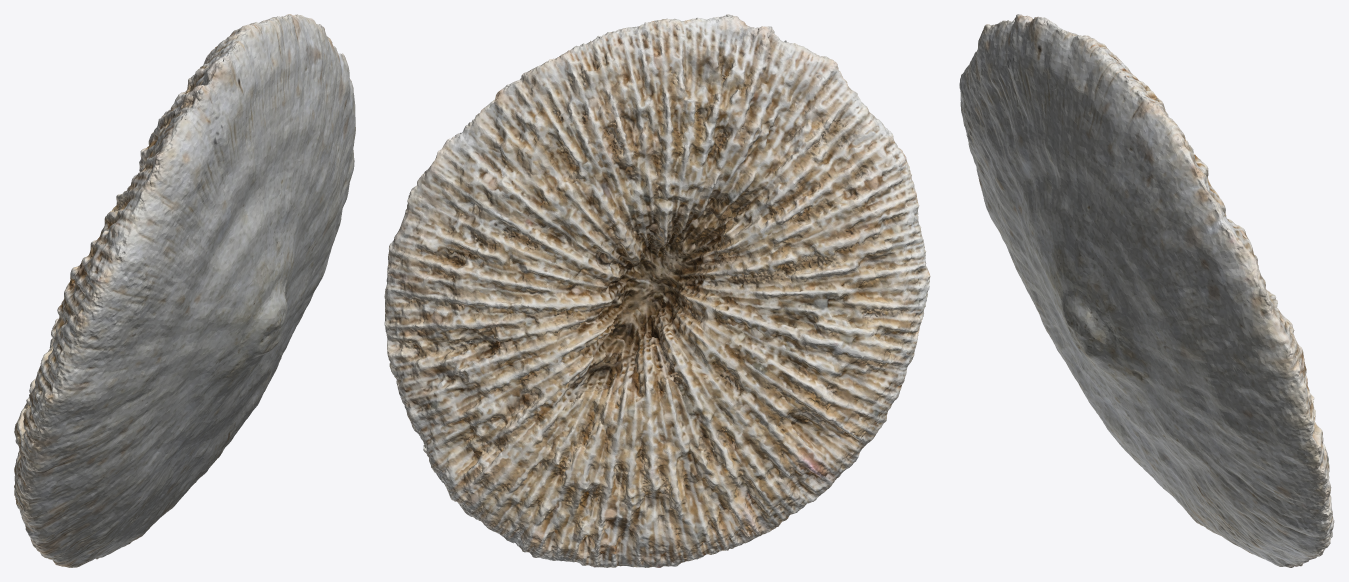
The model's file is MZUR3D-026.glb.
3 renders of one model, left to right at view 1: azimuth 30°, elevation 25°; view 2: azimuth 150°, elevation 25°; view 3: azimuth 270°, elevation 25°, orthographic. The views are drawn at different scales.
Visible parts, largest first — view 1: Fungia_1; view 2: Fungia_1; view 3: Fungia_1.
Part boxes in pixels (x1,y1,x2,y2): Fungia_1: [14, 14, 355, 567]; Fungia_1: [384, 14, 930, 567]; Fungia_1: [959, 14, 1334, 567].
Bounding box in the file's own units: 0.8015 × 0.9221 × 0.598.
1 material, 1 textured.
